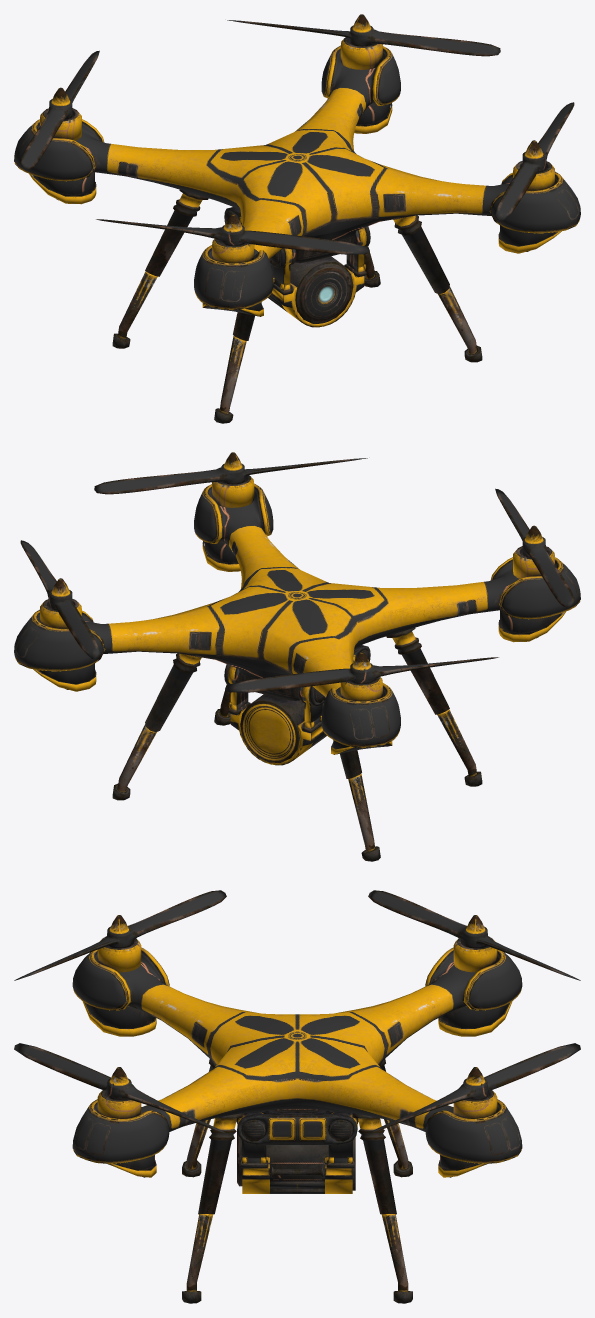
The model's file is drone.glb.
3 renders of one model, top to bottom at view 1: azimuth 30°, elevation 25°; view 2: azimuth 150°, elevation 25°; view 3: azimuth 270°, elevation 25°, orthographic. The views are drawn at different scales.
Visible parts, largest first — view 1: DroneA; view 2: DroneA; view 3: DroneA.
Boxes of the visible parts, left/top/right/bottom form: DroneA: left=14, top=14, right=580, bottom=423; DroneA: left=14, top=452, right=580, bottom=861; DroneA: left=14, top=890, right=580, bottom=1303.
Size of the model in its own units: 2 by 0.9453 by 1.98.
Materials: 1 (1 with a texture image).
